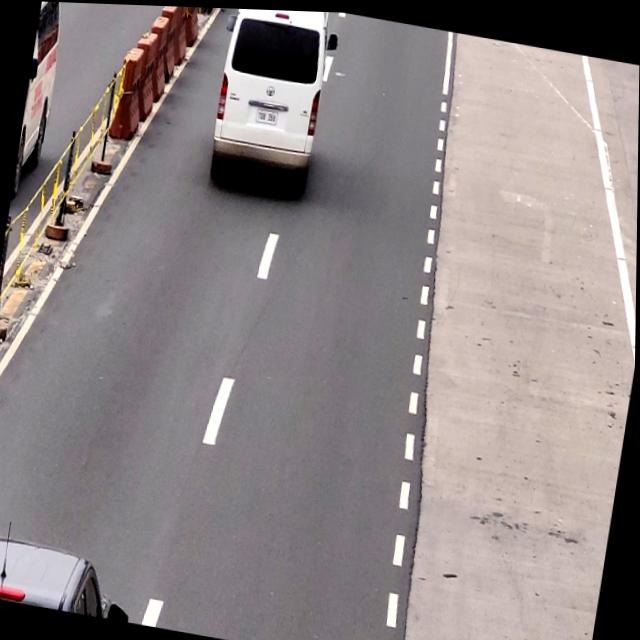Car: (206, 6, 334, 196), (0, 532, 121, 619)
License-Plate: (255, 104, 280, 126)
